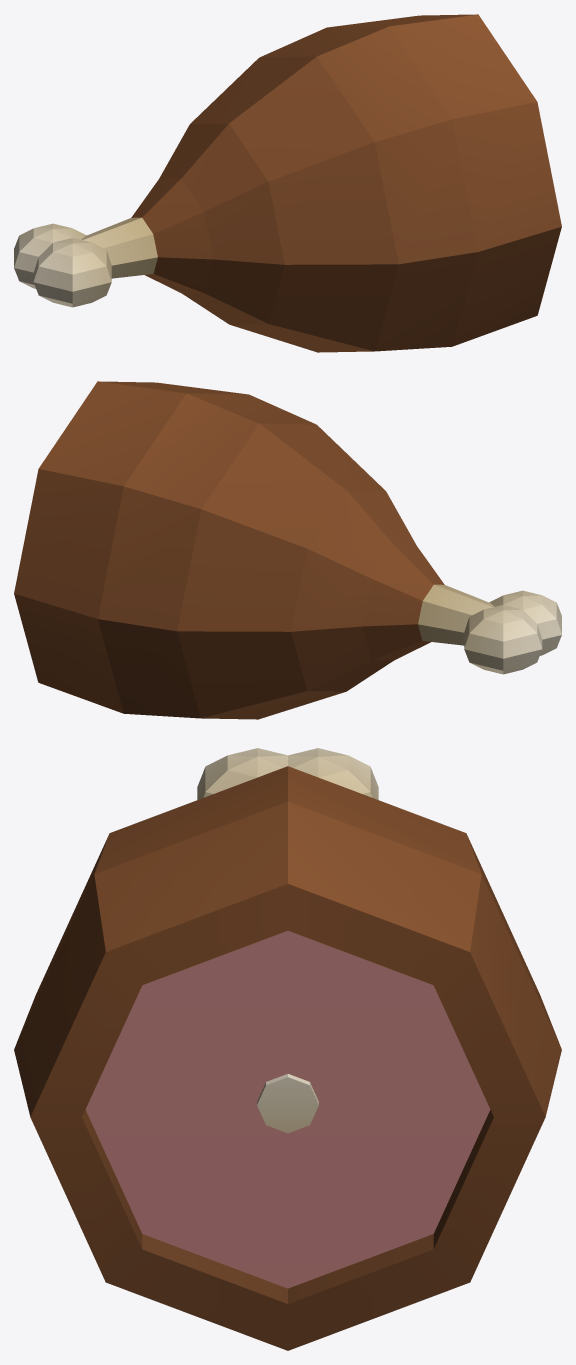
File: meat_1.fbx
3 renders of one model, top to bottom at view 1: azimuth 30°, elevation 25°; view 2: azimuth 150°, elevation 25°; view 3: azimuth 270°, elevation 25°, orthographic. The views are drawn at different scales.
Parts seen in each view (by area): view 1: meat_1; view 2: meat_1; view 3: meat_1.
Boxes of the visible parts, bbox=[...] form: meat_1: bbox=[14, 14, 561, 352]; meat_1: bbox=[14, 381, 561, 719]; meat_1: bbox=[14, 748, 561, 1350].
Size of the model in its own units: 0.3099 by 0.2094 by 0.2094.
